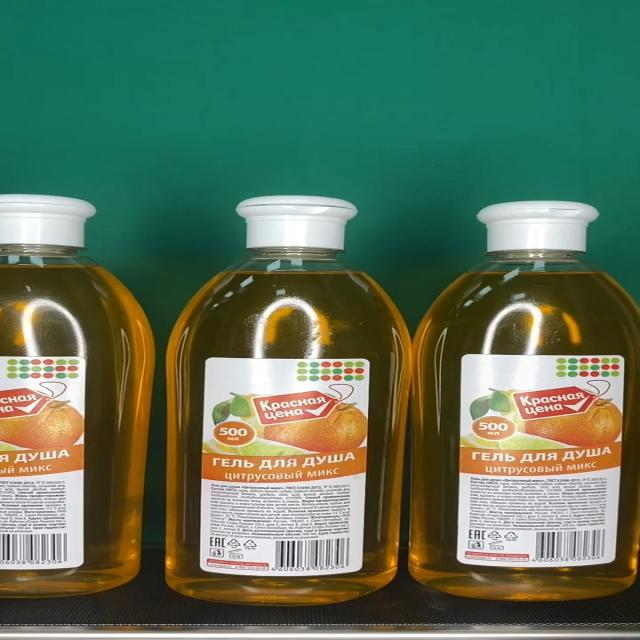Bottle: (165, 196, 412, 606), (410, 199, 640, 602)
Cap: (478, 200, 602, 253), (237, 196, 360, 249)
